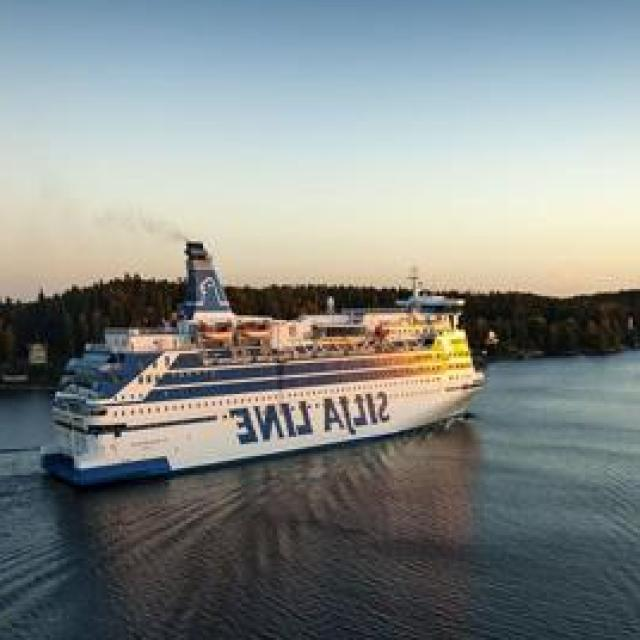passenger ship: (31, 263, 496, 489)
